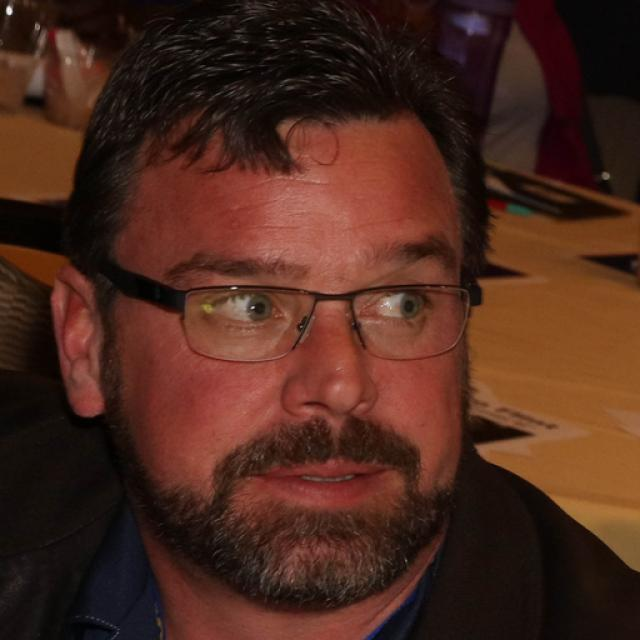fear: (116, 127, 466, 605)
